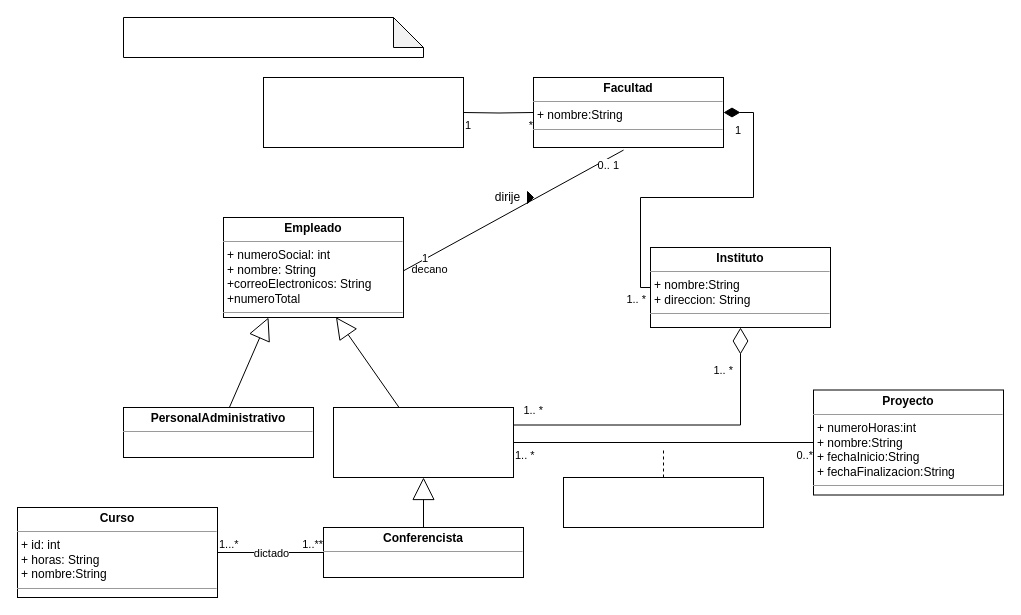
This 1021x615 diagram has some shape labels left out. The centre of each missing label's shape, as x and y in pixels:
Karen Brigith Gonzaga Rivas: point 273,37
Participa + horasParticipacion: String: point 663,502
PersonalInvestigacion + campoEstudio:String: point 423,442
Universidad + nombre:String: point 363,112
